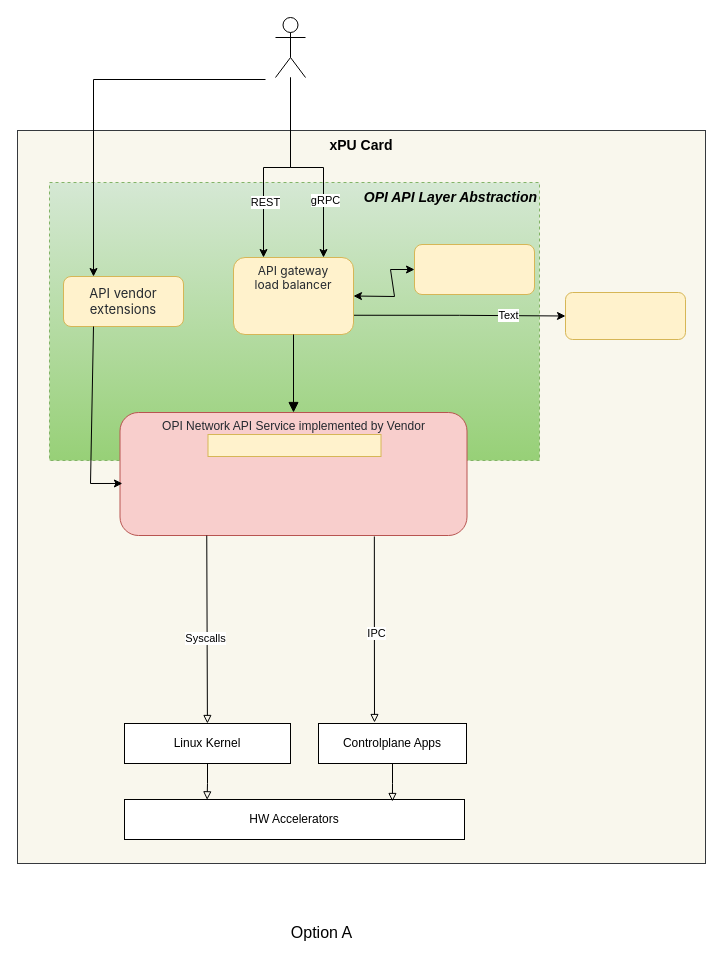
Image size: 723x965. Some labels were removed from this diagram. The centre of each missing label's shape, as x and y in pixels:
"Authentication and Authorization Service" goes at (474,269).
"client" goes at (290,47).
"NB API Layer (OpenConfig++)" goes at (294,445).
"OTEL collector" goes at (625,316).
